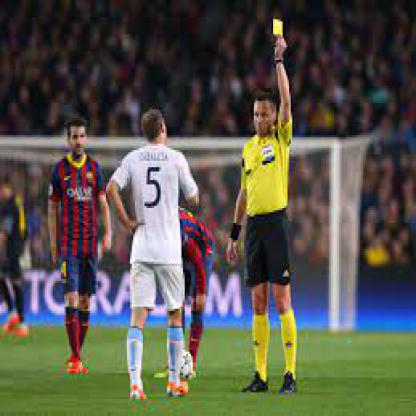foul: (240, 3, 298, 91)
